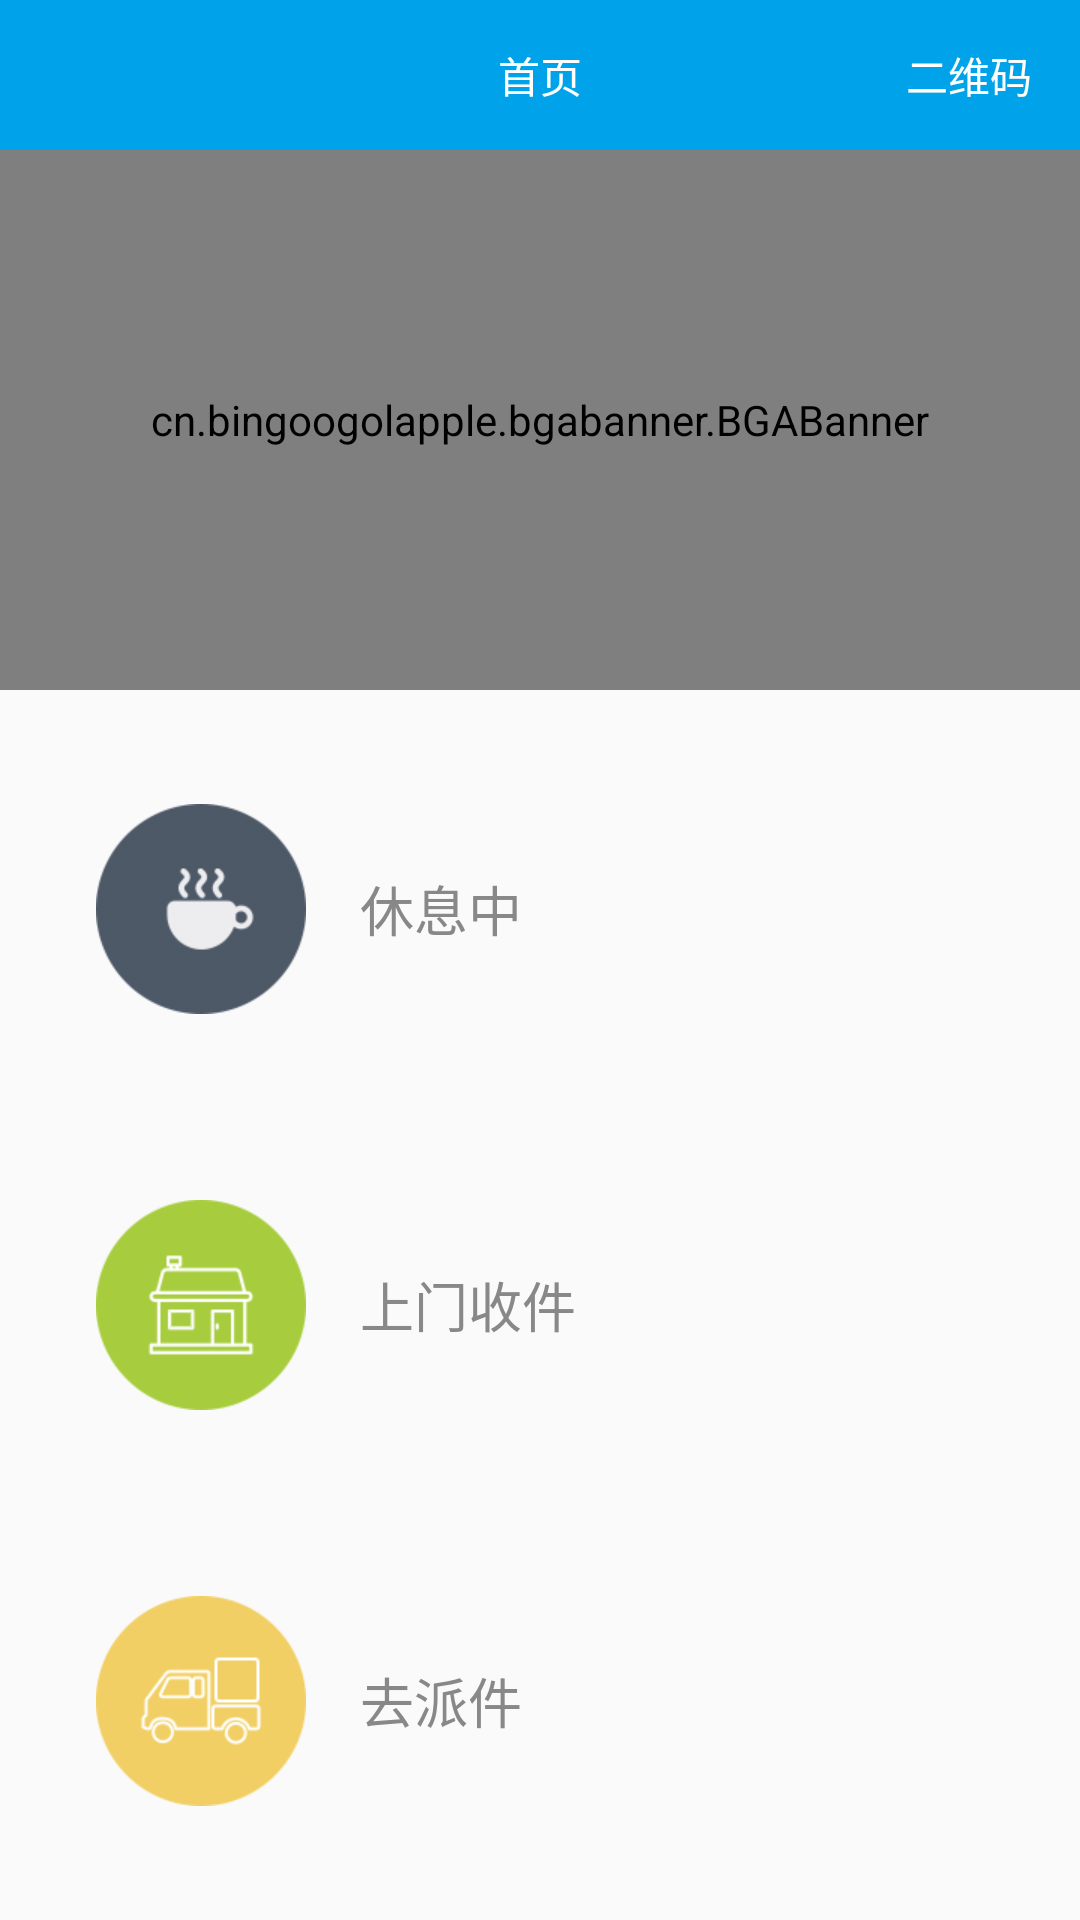

Where icons sit on this 1080px×1920px app screen, as [x1=x1, y1=y1, x2=x2, y2=y2]:
home paijian: [x1=96, y1=1596, x2=306, y2=1806]
home shangmen: [x1=96, y1=1200, x2=306, y2=1410]
